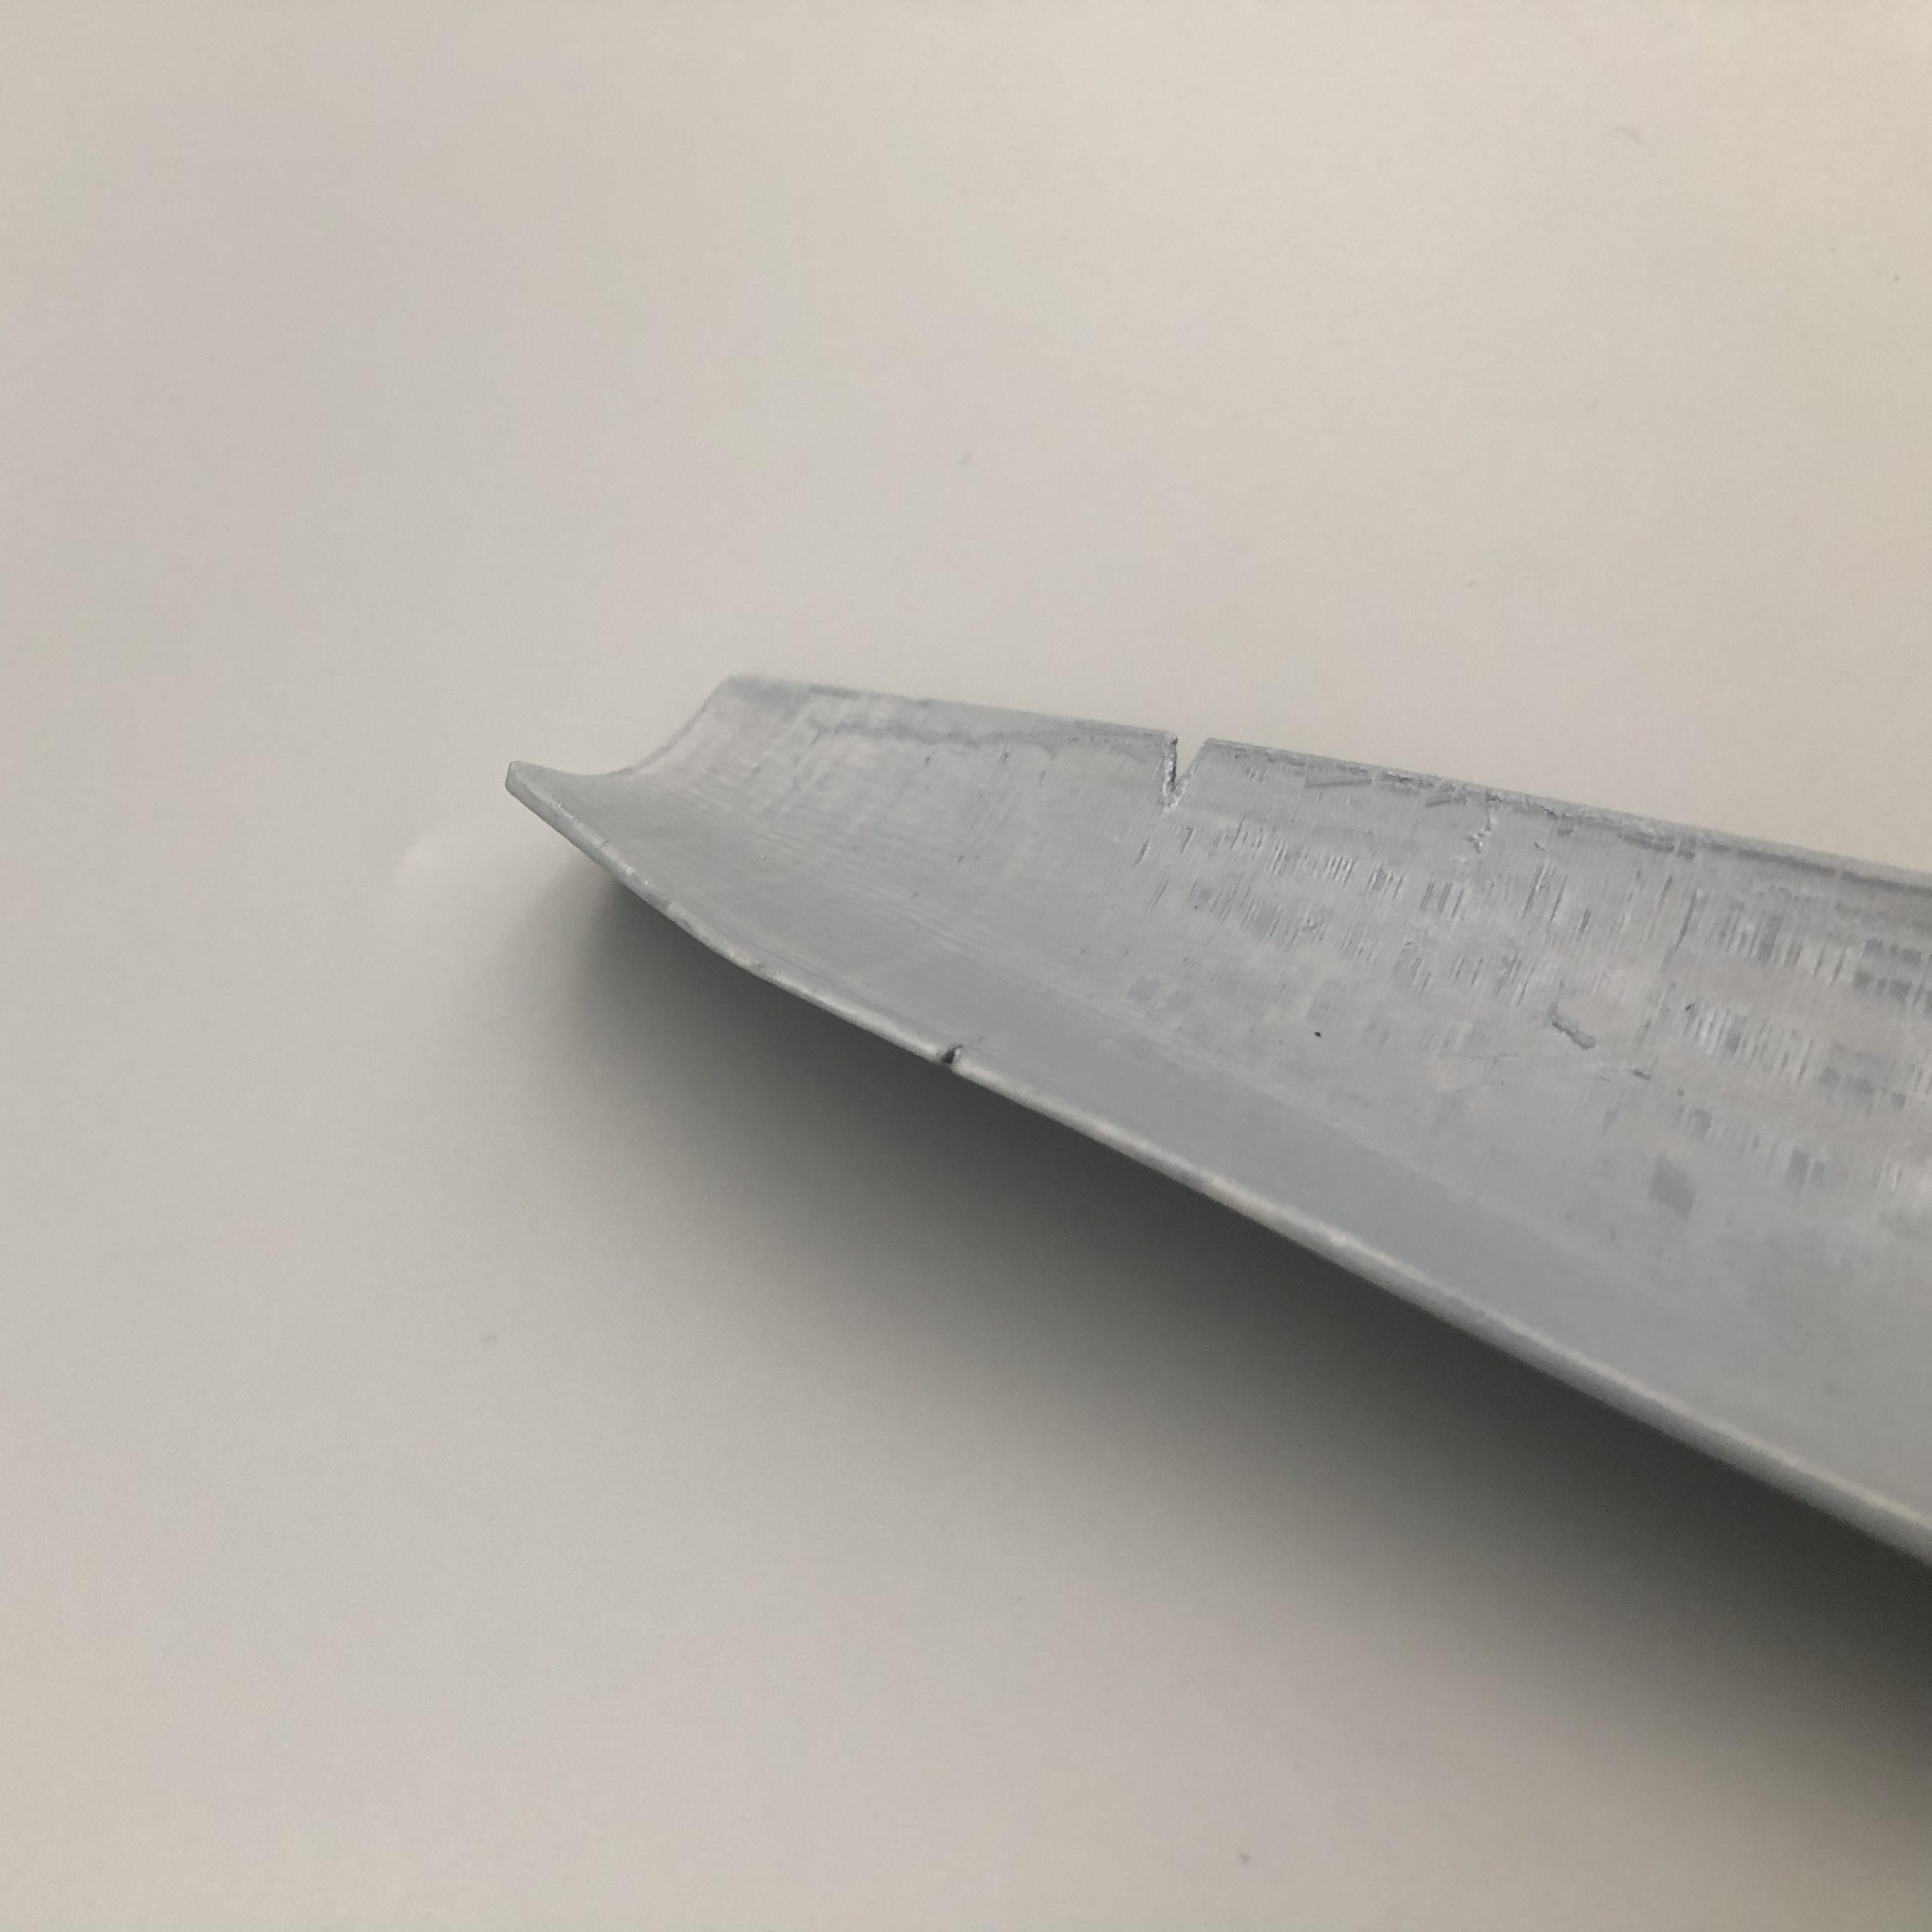groove: (1157, 738, 1217, 798), (938, 1035, 978, 1067)
